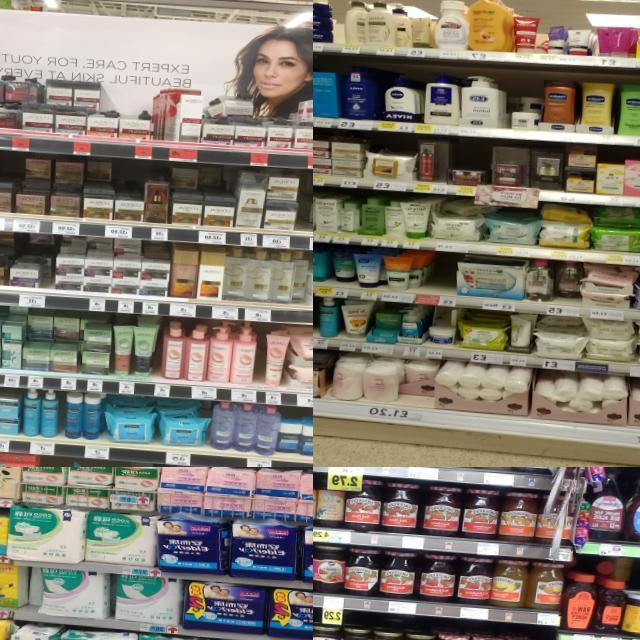empty: (430, 252, 458, 306)
